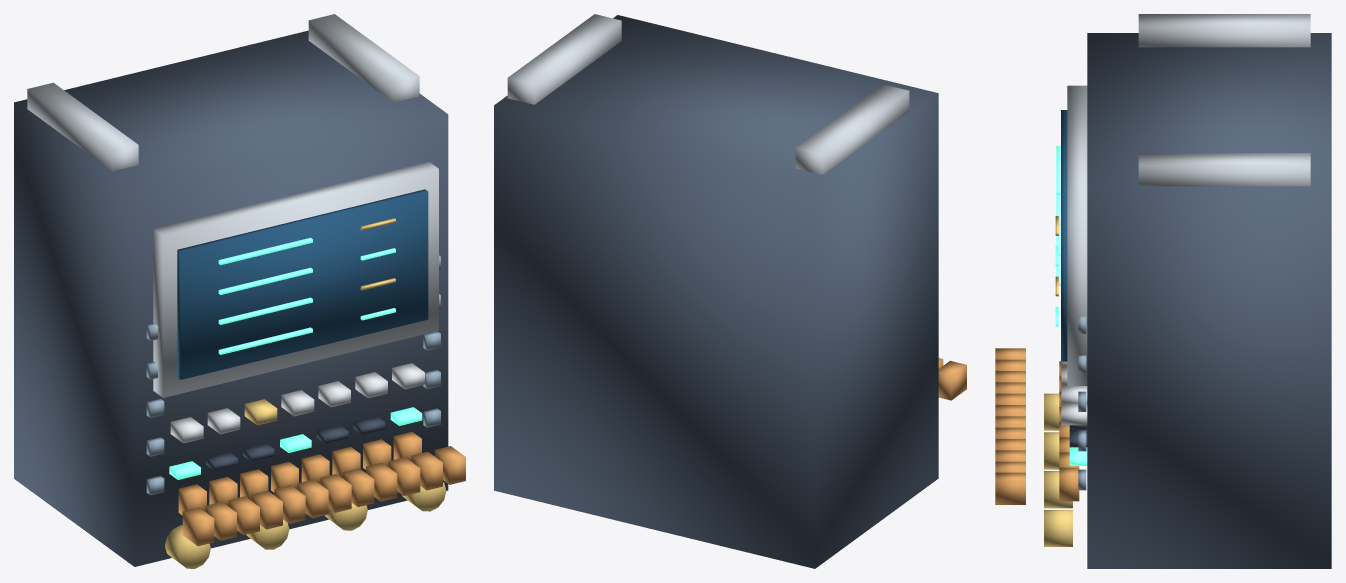
Rendered from 11_L85_StationDockingPowerInterface.glb.
The picture shows the model from 3 angles, left to right: view 1: azimuth 30°, elevation 25°; view 2: azimuth 150°, elevation 25°; view 3: azimuth 270°, elevation 25°; orthographic projection. The views are drawn at different scales.
Parts seen in each view (by area): view 1: L85_StationDockingPowerInterf_Part_0000, L85_StationDockingPowerInterf_Part_0002, L85_StationDockingPowerInterf_Part_0001, L85_StationDockingPowerInterf_Part_0008, L85_StationDockingPowerInterf_Part_0009, L85_StationDockingPowerInterf_Part_0004, L85_StationDockingPowerInterf_Part_0005, L85_StationDockingPowerInterf_Part_0003, L85_StationDockingPowerInterf_Part_0007, L85_StationDockingPowerInterf_Part_0006; view 2: L85_StationDockingPowerInterf_Part_0000, L85_StationDockingPowerInterf_Part_0001, L85_StationDockingPowerInterf_Part_0008; view 3: L85_StationDockingPowerInterf_Part_0000, L85_StationDockingPowerInterf_Part_0001, L85_StationDockingPowerInterf_Part_0008, L85_StationDockingPowerInterf_Part_0004, L85_StationDockingPowerInterf_Part_0009, L85_StationDockingPowerInterf_Part_0002, L85_StationDockingPowerInterf_Part_0005, L85_StationDockingPowerInterf_Part_0003, L85_StationDockingPowerInterf_Part_0007.
Part boxes in pixels (<box>): L85_StationDockingPowerInterf_Part_0000: <box>14,30,448,566</box>; L85_StationDockingPowerInterf_Part_0002: <box>177,189,428,379</box>; L85_StationDockingPowerInterf_Part_0001: <box>27,14,438,397</box>; L85_StationDockingPowerInterf_Part_0008: <box>178,432,421,546</box>; L85_StationDockingPowerInterf_Part_0009: <box>320,446,465,512</box>; L85_StationDockingPowerInterf_Part_0004: <box>165,218,446,568</box>; L85_StationDockingPowerInterf_Part_0005: <box>170,363,424,443</box>; L85_StationDockingPowerInterf_Part_0003: <box>169,237,422,479</box>; L85_StationDockingPowerInterf_Part_0007: <box>146,255,440,495</box>; L85_StationDockingPowerInterf_Part_0006: <box>206,416,385,470</box>; L85_StationDockingPowerInterf_Part_0000: <box>494,15,938,568</box>; L85_StationDockingPowerInterf_Part_0001: <box>507,14,909,174</box>; L85_StationDockingPowerInterf_Part_0008: <box>938,358,966,400</box>; L85_StationDockingPowerInterf_Part_0000: <box>1087,33,1331,568</box>; L85_StationDockingPowerInterf_Part_0001: <box>1067,14,1310,385</box>; L85_StationDockingPowerInterf_Part_0008: <box>995,348,1079,501</box>; L85_StationDockingPowerInterf_Part_0004: <box>1044,216,1072,546</box>; L85_StationDockingPowerInterf_Part_0009: <box>995,416,1025,504</box>; L85_StationDockingPowerInterf_Part_0002: <box>1061,110,1067,361</box>; L85_StationDockingPowerInterf_Part_0005: <box>1061,361,1087,425</box>; L85_StationDockingPowerInterf_Part_0003: <box>1055,146,1087,465</box>; L85_StationDockingPowerInterf_Part_0007: <box>1078,316,1086,490</box>.
Bounding box in the file's own units: 0.9588 × 1.16 × 0.8796.
